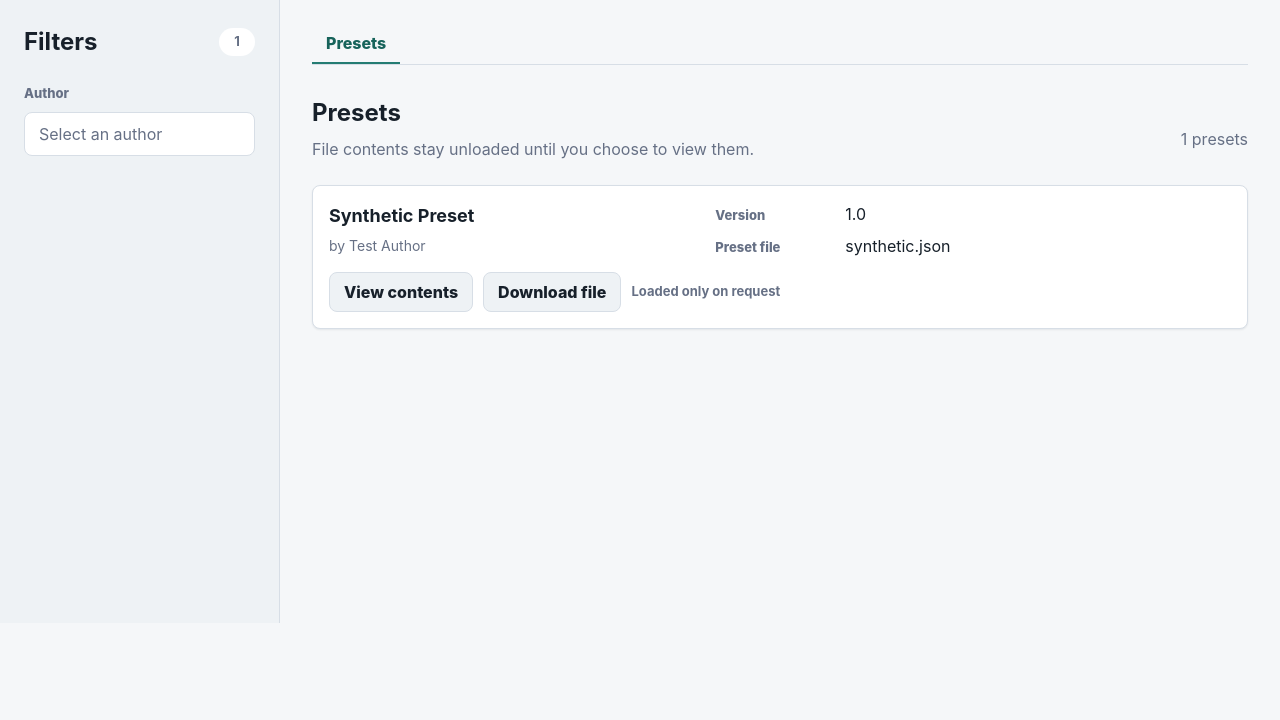
ResourceListPage › does not fetch file contents until the user explicitly opens them
Click the button "View contents" at (401, 292), box [329,272,473,312]
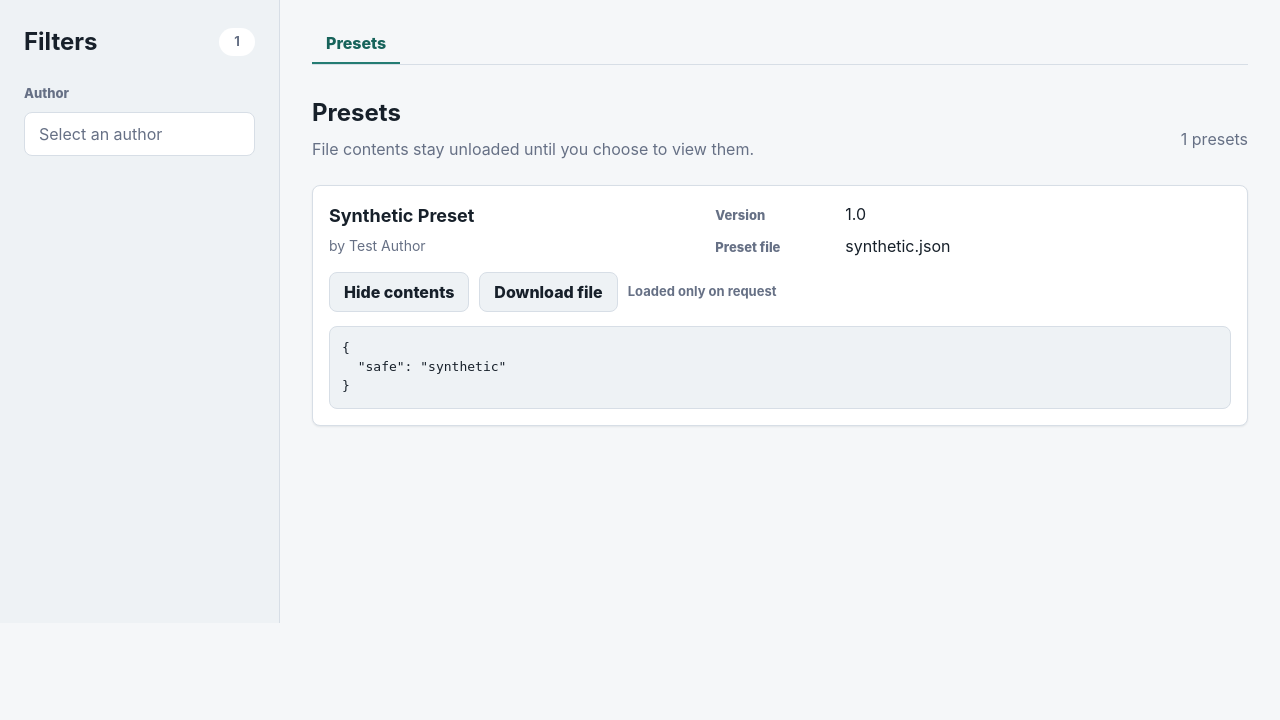
Result: the text "{ \"safe\": \"synthetic\" }" is shown at [329,326,1231,408]
